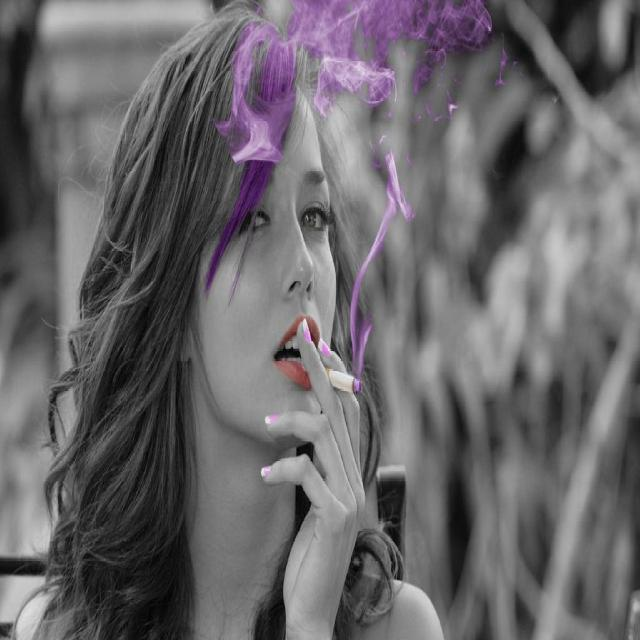smoking: (183, 28, 382, 629)
